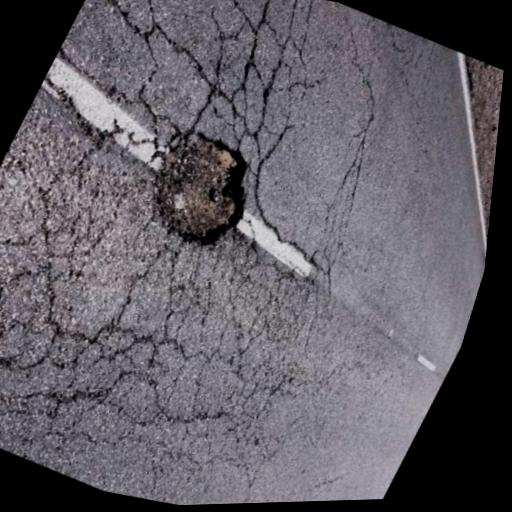pothole: (74, 113, 277, 357)
